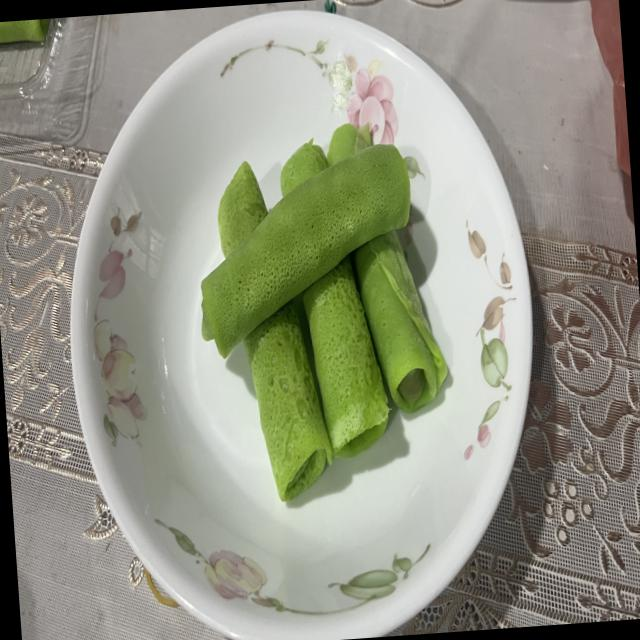Kuih-Ketayap: (201, 144, 410, 358), (244, 302, 332, 501), (303, 256, 388, 457), (353, 230, 446, 412), (217, 160, 266, 255), (280, 140, 328, 196), (326, 122, 370, 166)
